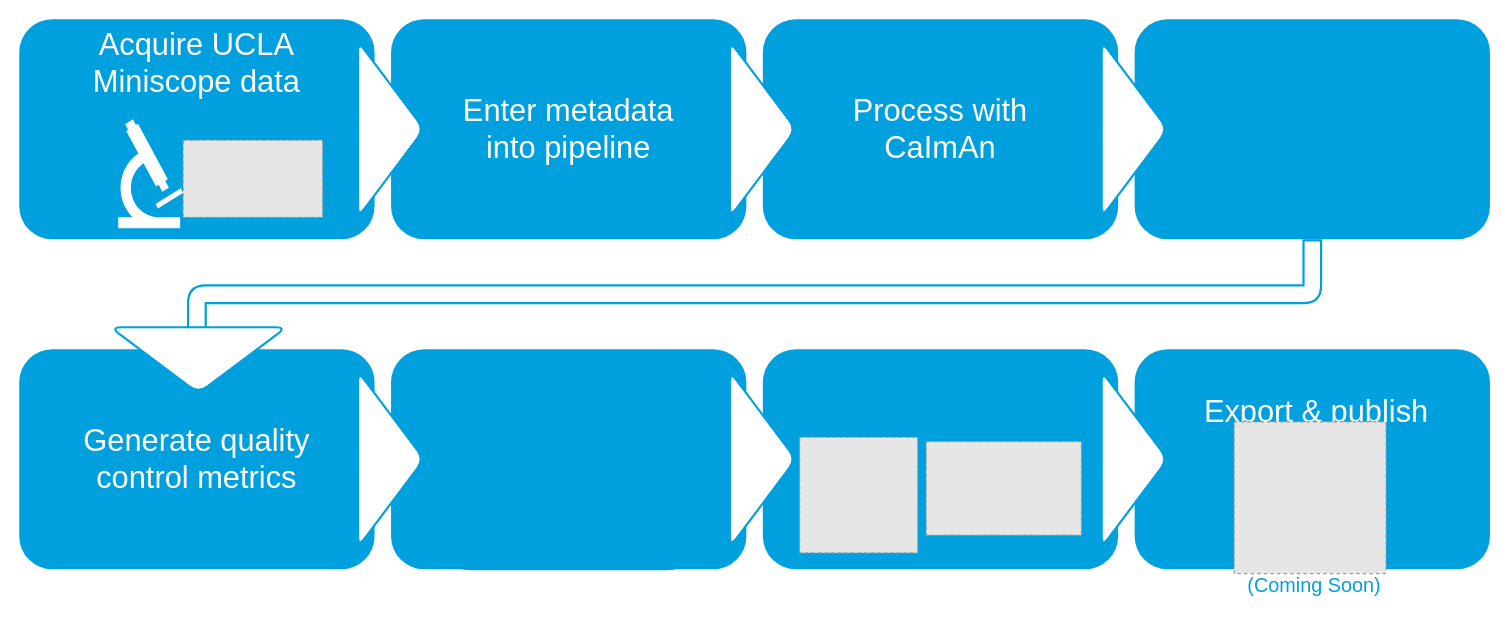
The diagram is 1508 pixels wide and 620 high, and some of its shapes have lost their labels. Grey dashed boxes stand in for pictures. The box of each missing label's shape, as (x1, y1, x2, y2) in pixels:
Optionally curate cells: (1134, 19, 1489, 239)
Synchronize data modalities & exploratory analysis: (437, 350, 699, 570)
Visualize: (762, 349, 1118, 569)
